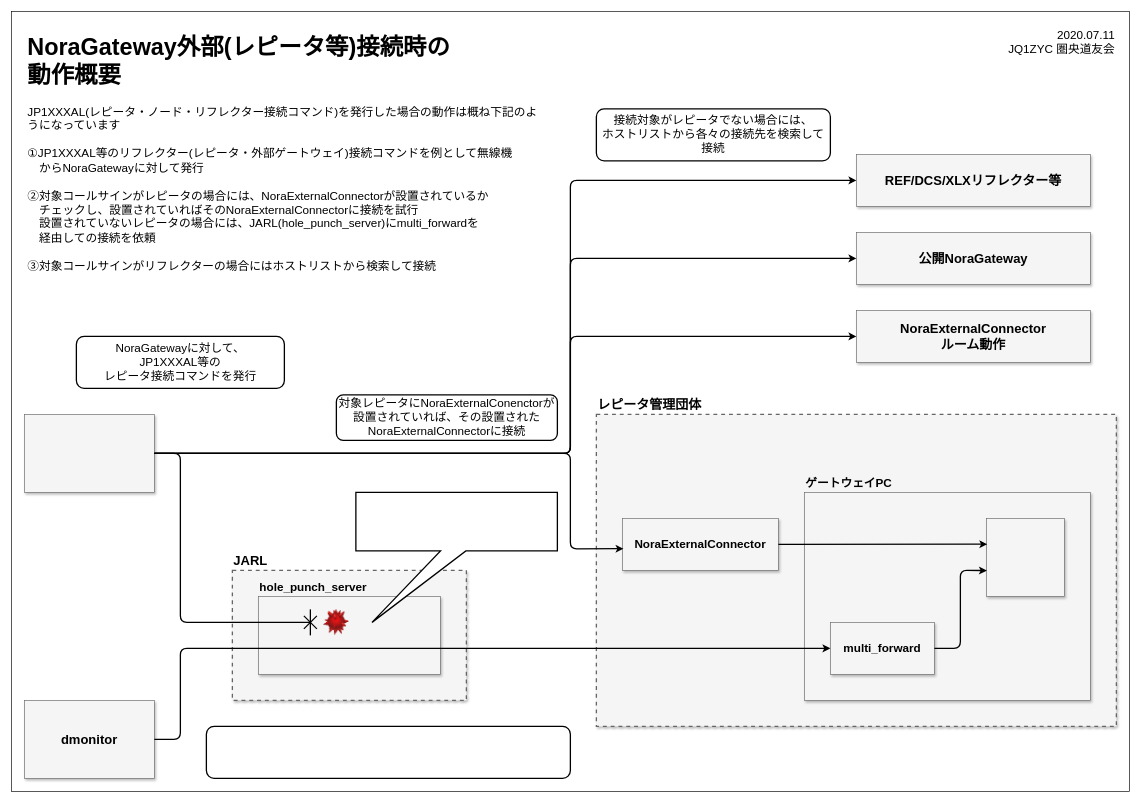
This 1141x803 diagram has some shape labels left out. The shapes that lost their labels are listed below. From the top down, each one's centre as x and y in pixels, then its label:
At pixel 89 454: "NoraGateway".
At pixel 456 557: "hole_punch_server(JARL管理)内で NoraGatewayからの接続をブロック".
At pixel 1025 558: "xchange".
At pixel 388 752: "対象レピータにNoraExternalConenctorが設置されていない場合は、 JARLのhole_punch_serverに接続を依頼".
